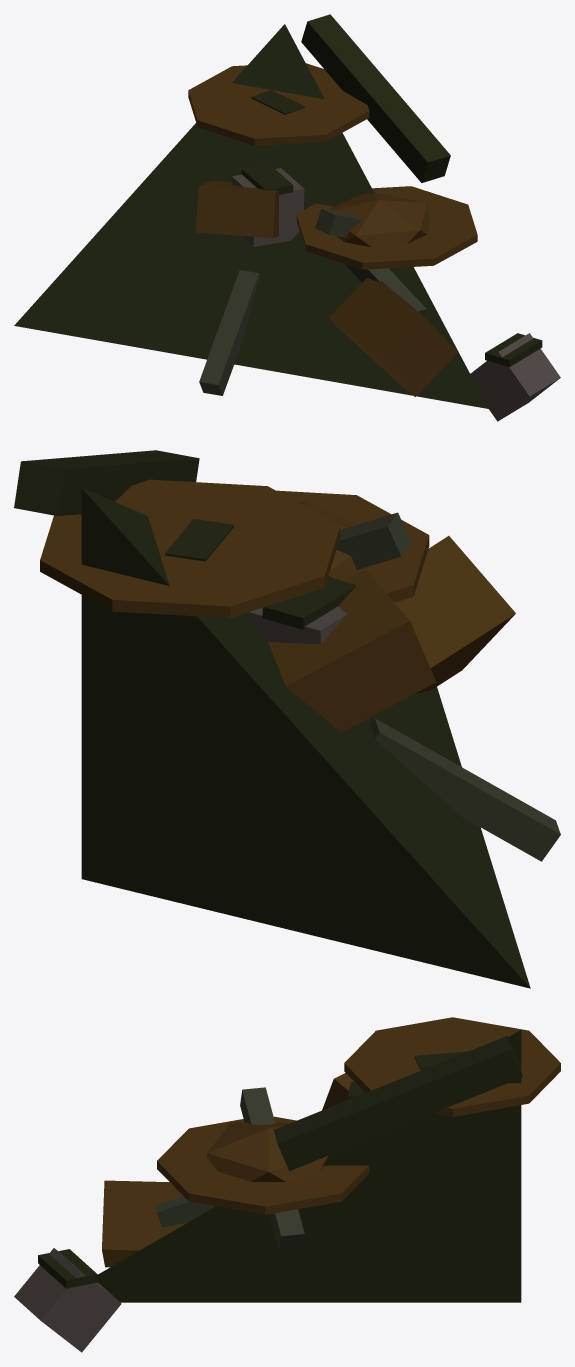
File: SM_PilaZombi_RemateIzq_Altura1_s2_LOD0.fbx
The picture shows the model from 3 angles, top to bottom: view 1: azimuth 30°, elevation 25°; view 2: azimuth 150°, elevation 25°; view 3: azimuth 270°, elevation 25°; orthographic projection. The views are drawn at different scales.
Parts seen in each view (by area): view 1: SM_pila_zombis_v10_LOD0; view 2: SM_pila_zombis_v10_LOD0; view 3: SM_pila_zombis_v10_LOD0.
Part boxes in pixels (box(x1,y1,x2,y2)): SM_pila_zombis_v10_LOD0: box(14, 14, 560, 421); SM_pila_zombis_v10_LOD0: box(14, 450, 560, 988); SM_pila_zombis_v10_LOD0: box(14, 1017, 560, 1352).
Bounding box in the file's own units: 1.52 × 1.09 × 1.82.
